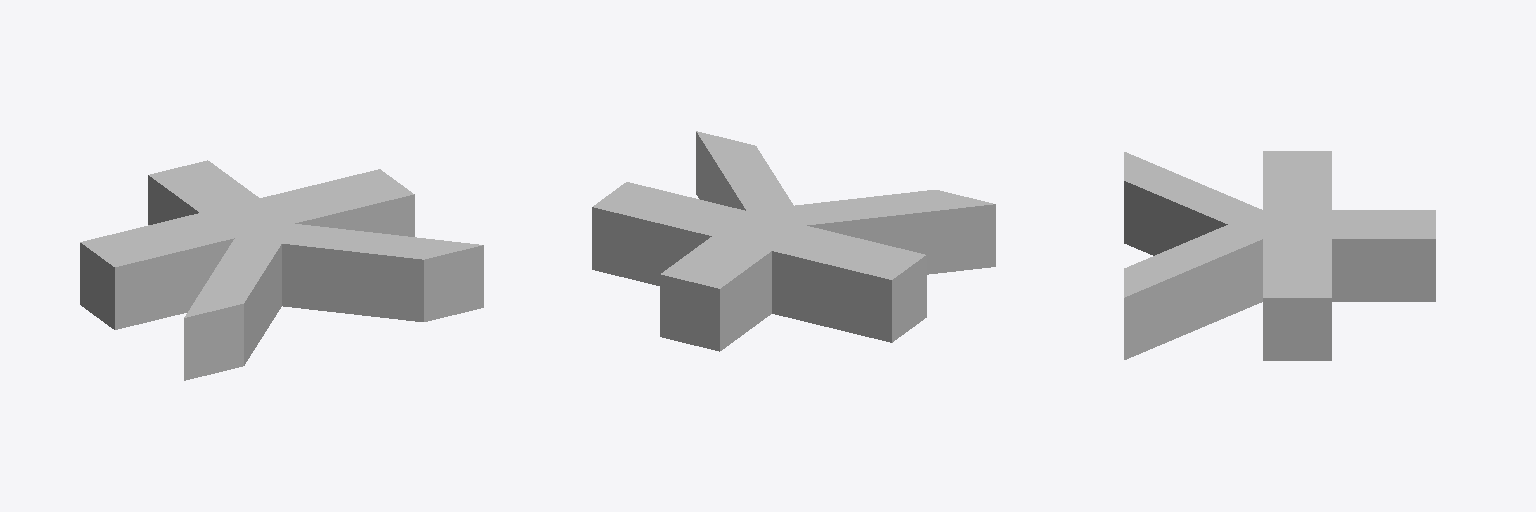
The model's file is FireBlast.obj.
3 renders of one model, left to right at view 1: azimuth 30°, elevation 25°; view 2: azimuth 150°, elevation 25°; view 3: azimuth 270°, elevation 25°, orthographic.
Parts seen in each view (by area): view 1: Cube.002_Cube.005; view 2: Cube.002_Cube.005; view 3: Cube.002_Cube.005.
Boxes of the visible parts, x1=… form: Cube.002_Cube.005: x1=80, y1=160, x2=483, y2=380; Cube.002_Cube.005: x1=592, y1=131, x2=995, y2=351; Cube.002_Cube.005: x1=1124, y1=151, x2=1435, y2=360.
Size of the model in its own units: 10 by 2 by 9.